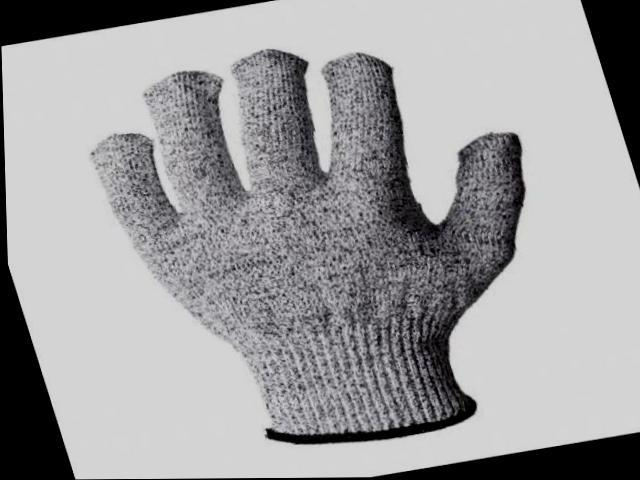Hand-in-Glove: (26, 10, 612, 480)
